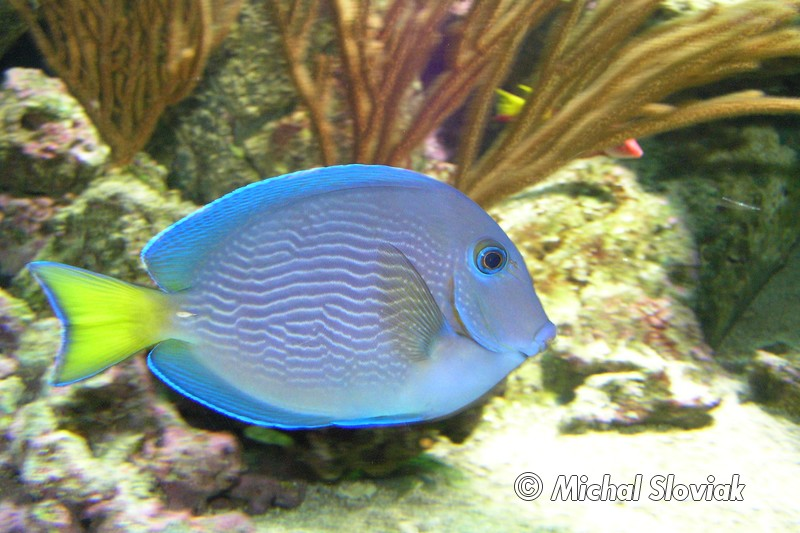Acanthurus_coeruleus: (26, 160, 563, 437)
